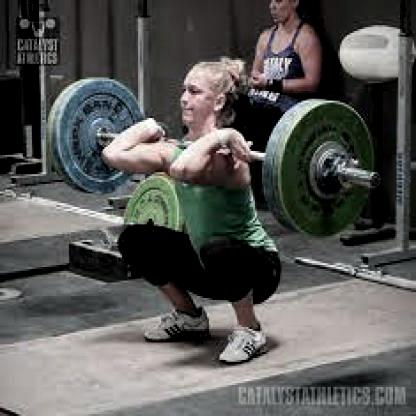Barbell: (367, 170, 384, 193)
